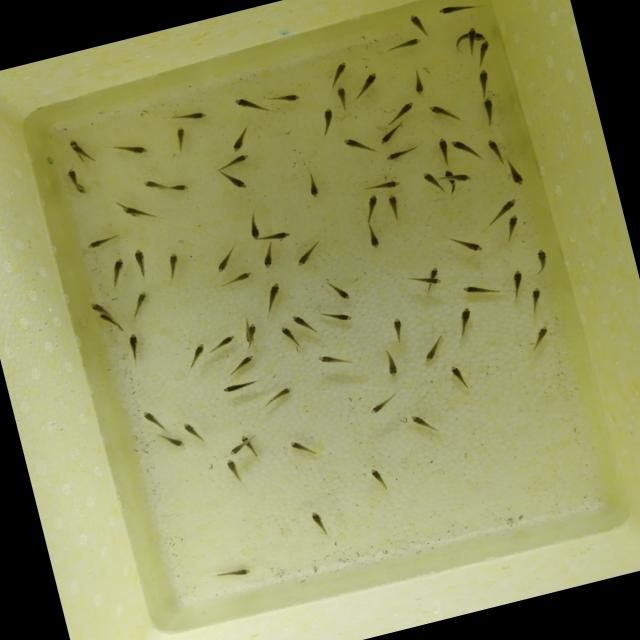fingerling: (106, 133, 156, 165), (231, 88, 274, 125), (478, 192, 524, 223), (82, 227, 132, 255), (444, 227, 485, 261), (208, 240, 245, 277), (254, 278, 290, 316), (414, 331, 452, 366), (210, 560, 258, 587), (360, 388, 403, 418), (126, 244, 156, 286), (156, 247, 188, 286), (289, 237, 326, 270), (448, 302, 481, 338), (460, 276, 502, 304), (169, 102, 214, 128), (320, 272, 356, 304), (216, 374, 262, 399), (179, 338, 212, 372), (216, 164, 251, 196), (215, 266, 258, 292), (118, 329, 148, 366), (120, 200, 161, 227), (444, 360, 473, 398), (137, 404, 171, 436), (522, 320, 556, 352), (403, 408, 439, 438), (426, 98, 462, 128), (104, 252, 134, 288), (358, 174, 403, 198), (316, 304, 356, 330), (288, 306, 320, 338), (305, 506, 335, 540), (351, 69, 385, 99), (224, 124, 258, 154), (213, 148, 255, 172), (364, 461, 394, 494), (284, 433, 320, 460), (382, 34, 426, 56), (223, 352, 260, 378), (526, 244, 556, 276), (356, 192, 386, 224), (253, 240, 281, 274), (258, 383, 296, 408), (272, 322, 302, 353), (467, 67, 496, 99), (434, 0, 478, 21), (167, 122, 195, 155), (384, 141, 424, 164), (316, 348, 354, 372), (314, 106, 340, 141), (503, 264, 528, 300), (322, 58, 352, 88), (154, 426, 186, 454), (481, 135, 509, 167), (340, 130, 372, 158), (268, 86, 305, 110), (301, 169, 327, 203), (503, 156, 529, 189), (381, 190, 406, 224), (180, 418, 208, 448), (378, 346, 402, 381), (499, 213, 527, 243), (448, 134, 478, 162), (385, 314, 411, 346), (524, 280, 547, 316), (206, 330, 239, 355), (126, 289, 154, 318), (384, 99, 418, 122), (221, 455, 245, 487), (476, 96, 500, 128), (408, 8, 432, 40), (242, 210, 266, 242), (360, 222, 384, 254), (406, 66, 429, 98), (331, 84, 353, 115), (376, 123, 404, 147), (264, 224, 297, 244), (434, 134, 454, 166), (167, 176, 195, 197), (475, 38, 497, 61), (452, 168, 476, 186), (140, 175, 164, 192), (418, 168, 438, 188), (62, 165, 82, 182), (88, 299, 106, 314), (227, 441, 244, 456), (466, 24, 479, 41), (428, 264, 442, 278), (68, 142, 84, 154), (429, 275, 444, 286), (246, 322, 258, 335), (238, 433, 250, 442)
